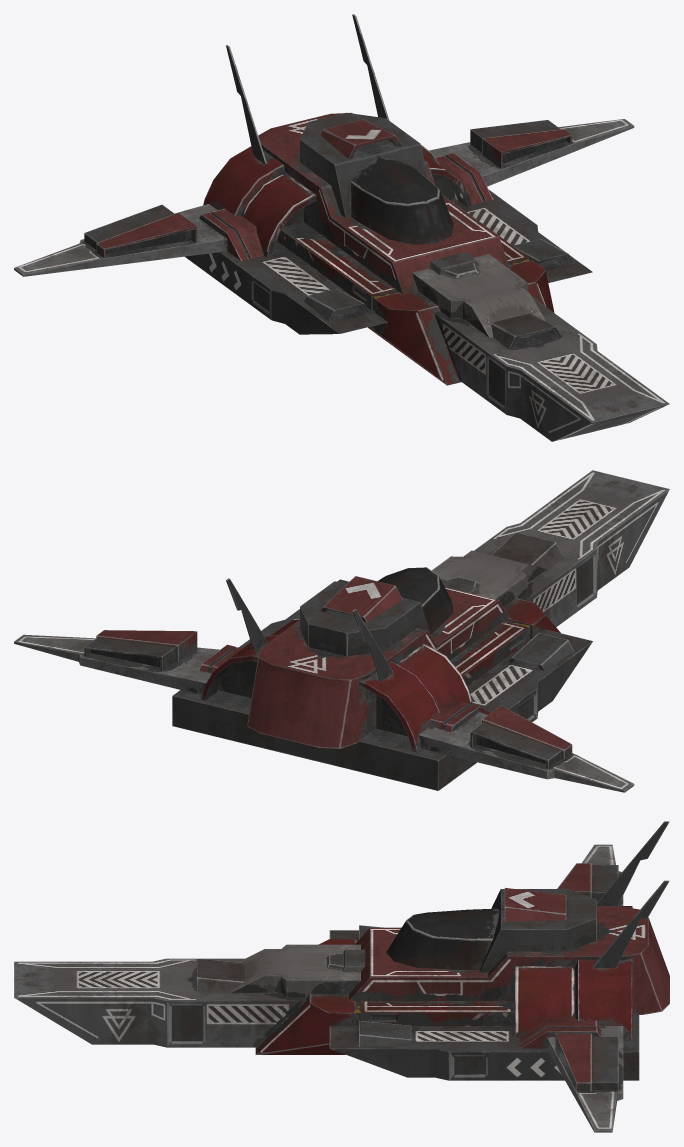
Rendered from challenger_red.glb.
The picture shows the model from 3 angles, top to bottom: view 1: azimuth 30°, elevation 25°; view 2: azimuth 150°, elevation 25°; view 3: azimuth 270°, elevation 25°; orthographic projection. The views are drawn at different scales.
Visible parts, largest first — view 1: challenger; view 2: challenger; view 3: challenger.
Part boxes in pixels (x1,y1,x2,y2): challenger: (14,14,669,441); challenger: (14,470,669,792); challenger: (14,821,669,1132).
Size of the model in its own units: 10.5 by 3.02 by 10.18.
Materials: 1 (1 with a texture image).
